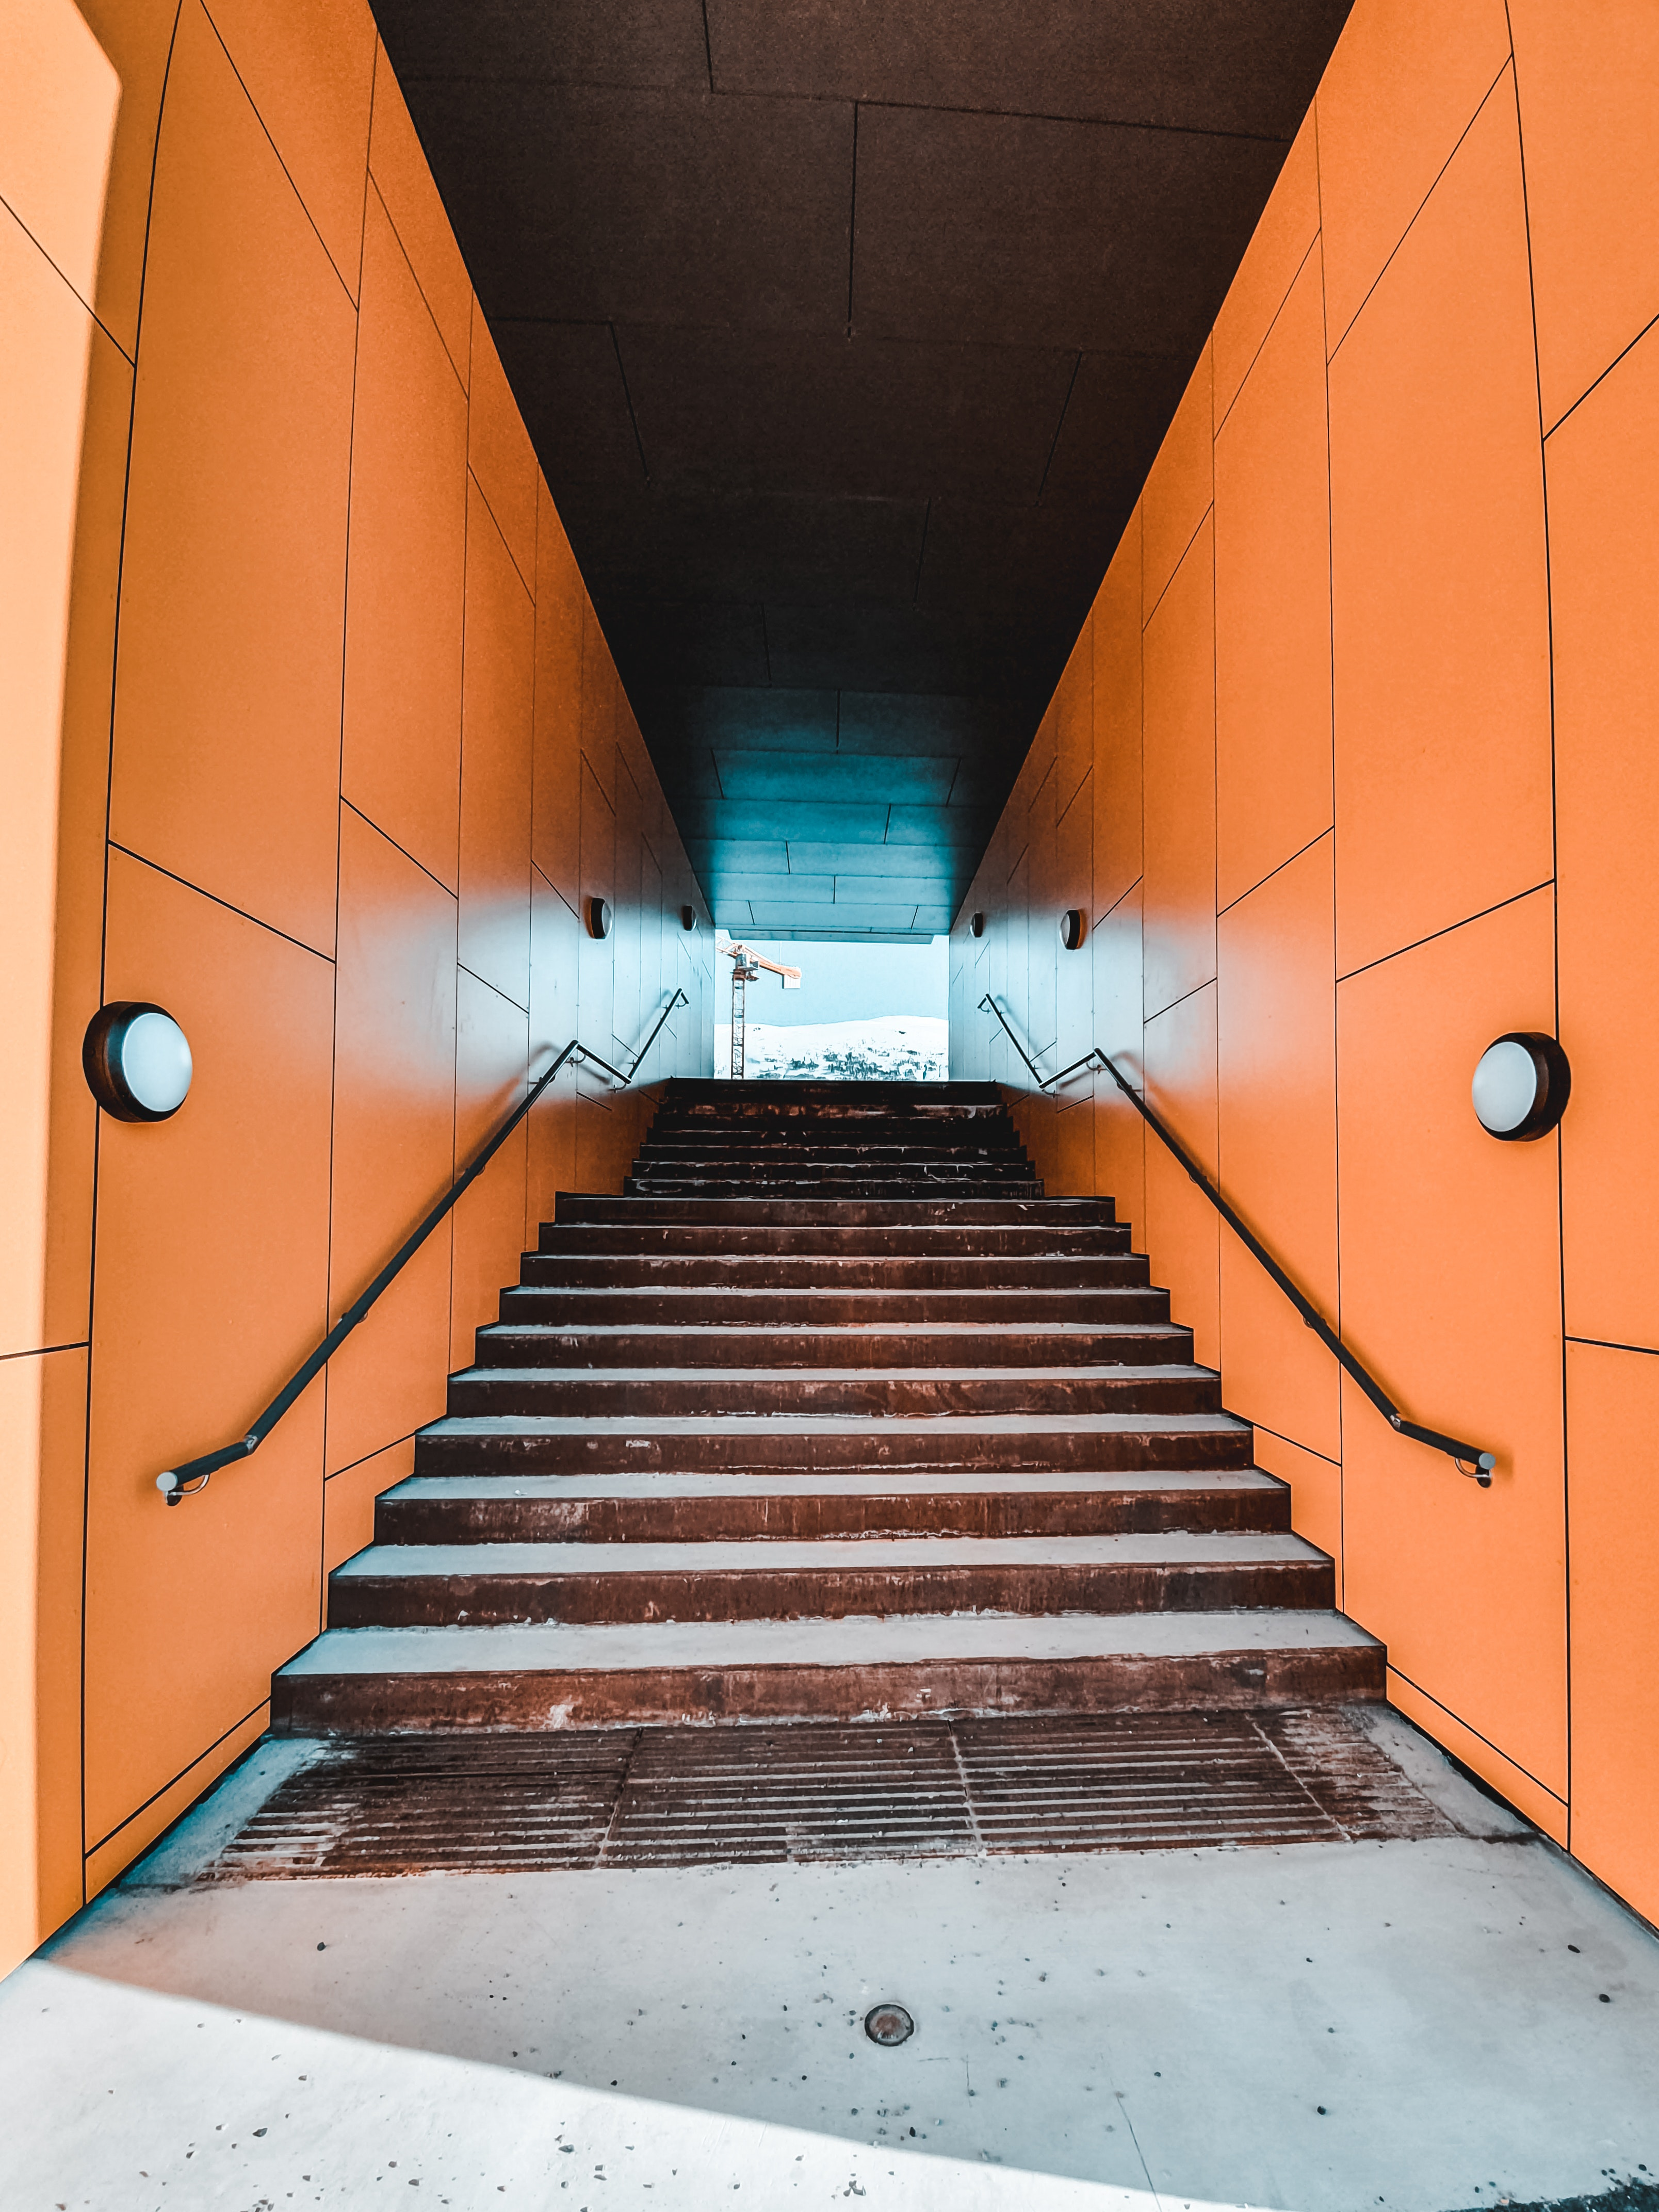upstairs: (500, 1264, 1175, 1742)
